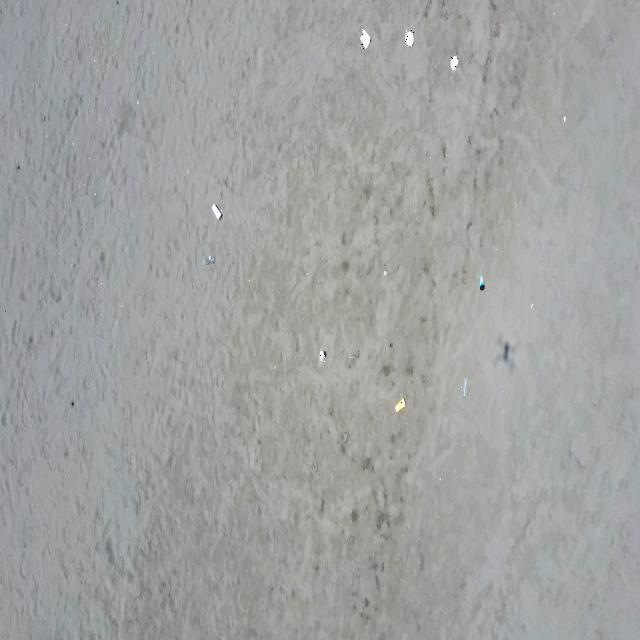take-away-containers: (360, 29, 371, 49), (405, 30, 414, 48), (450, 56, 459, 72)
takeaway-cup: (211, 203, 222, 221), (394, 397, 406, 412), (461, 379, 469, 398), (203, 255, 214, 265), (479, 275, 485, 291), (318, 350, 326, 362)
